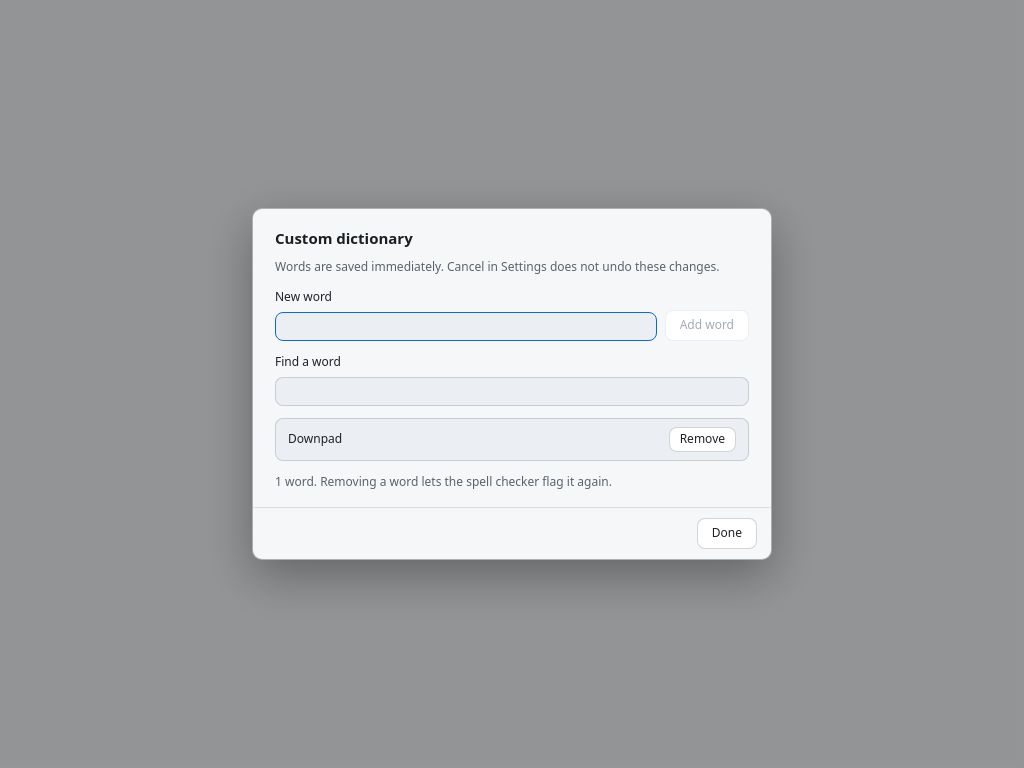
Test: custom dictionary › keeps a word after failed removal and removes it only when the native write succeeds
Click the button with aria-label "Remove Downpad" at [702, 439], box [669,427,736,452]
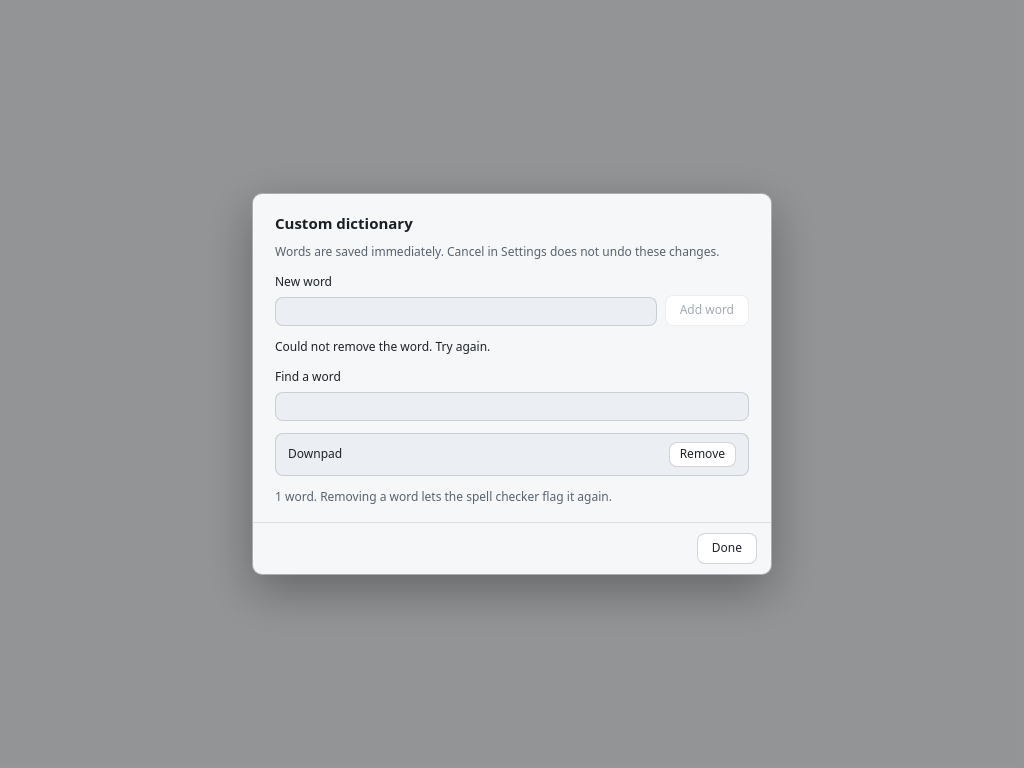
Result: the text "Could not remove the word. Try again." is shown at [275,338,490,355]
Click the button with aria-label "Remove Downpad" at [702, 454], box [669,442,736,467]
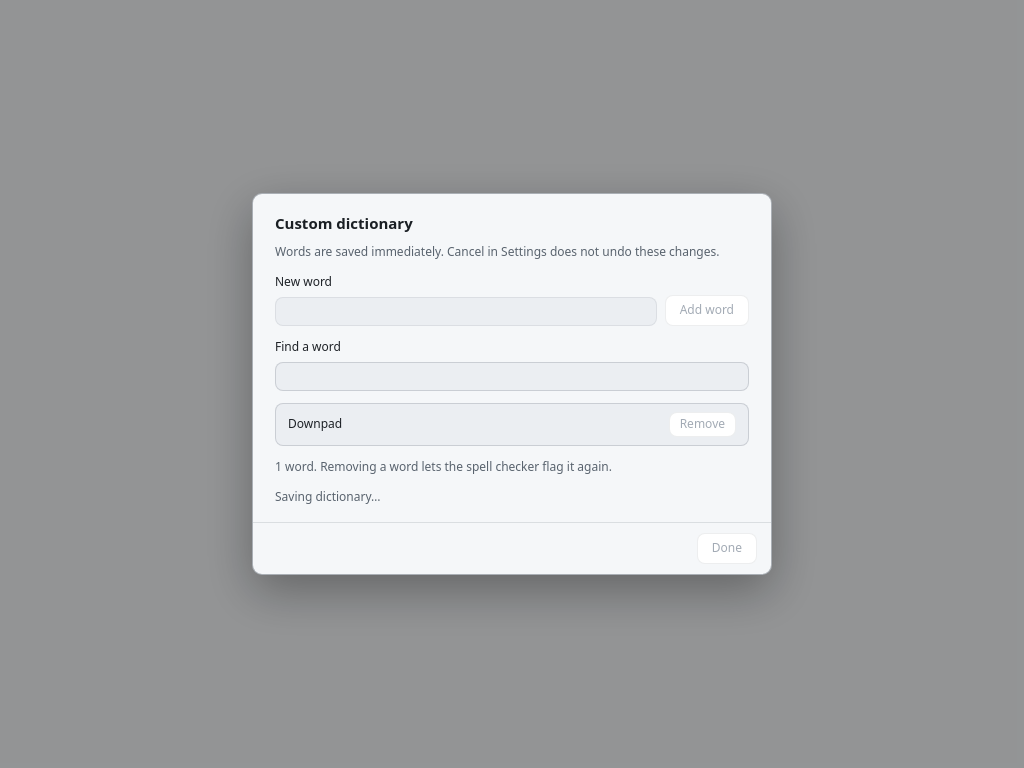
Result: the button with aria-label "Remove Downpad" is disabled at [669,412,736,437]
Result: the button "Done" is disabled at [697,533,757,564]
Press Escape
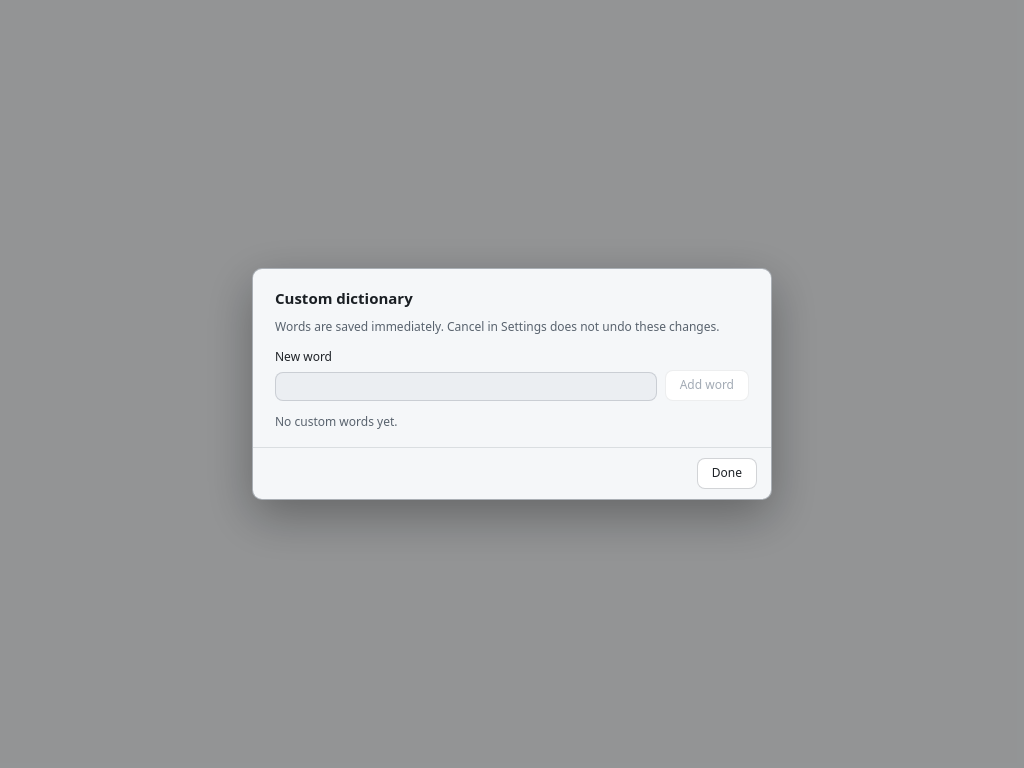
Result: the text "No custom words yet." is shown at [275,413,398,430]
